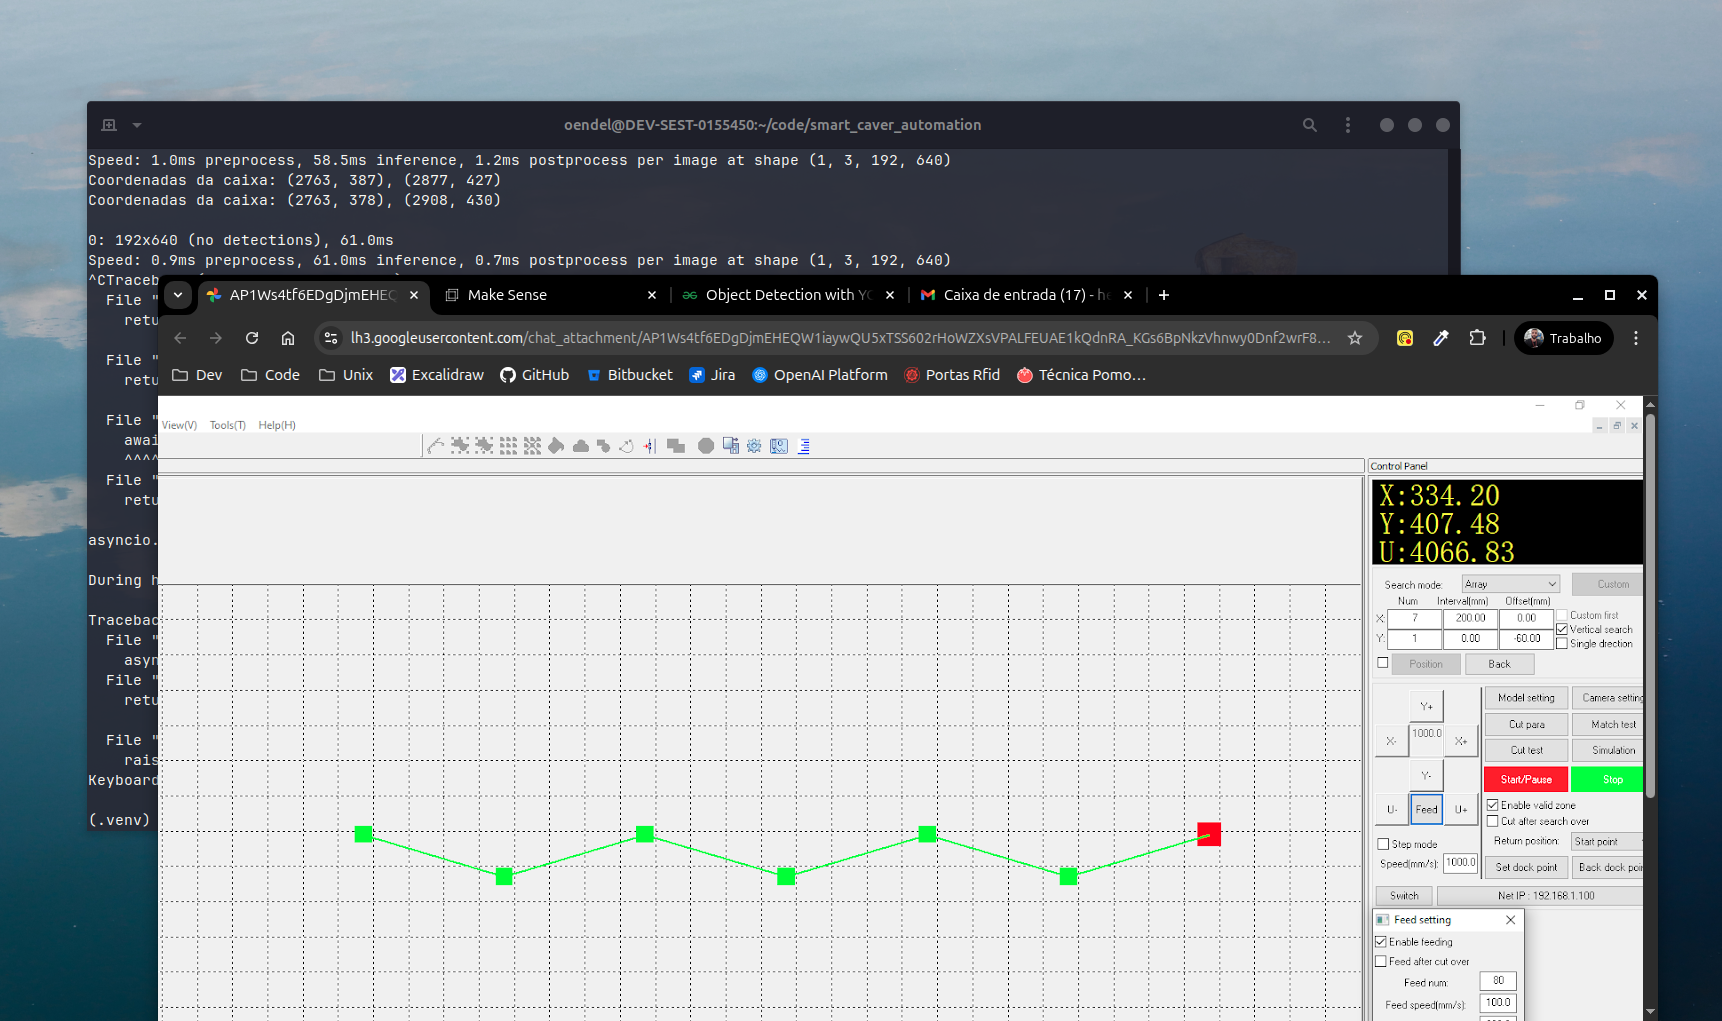start: (1484, 766, 1569, 792)
timer: (1498, 593, 1553, 648)
